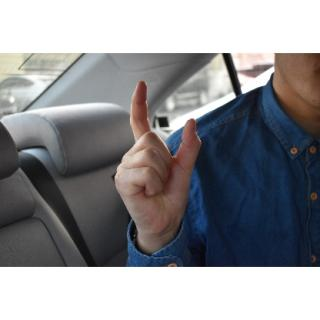NOON: (116, 76, 205, 232)
